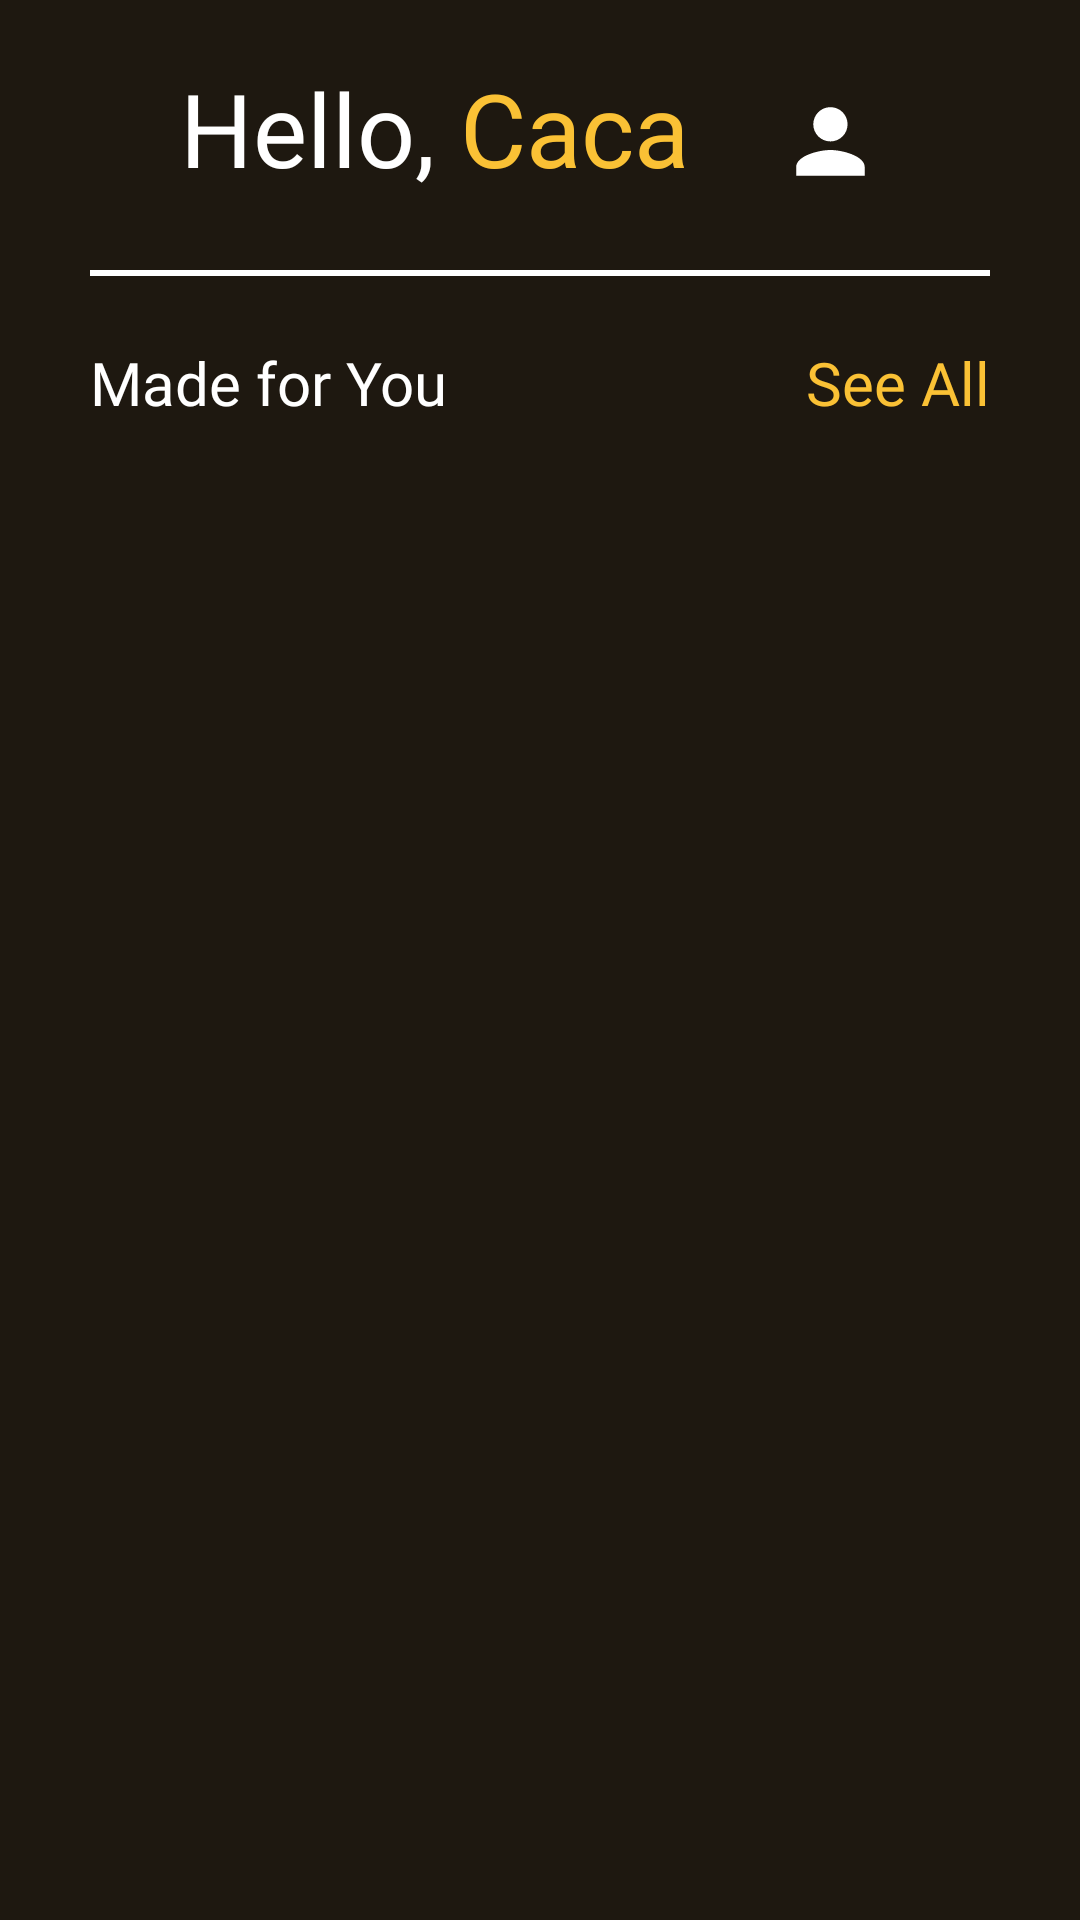

Icons on this 1080 × 1920 Android screen, each with the point to tap as (x,y):
person: (830,141)
